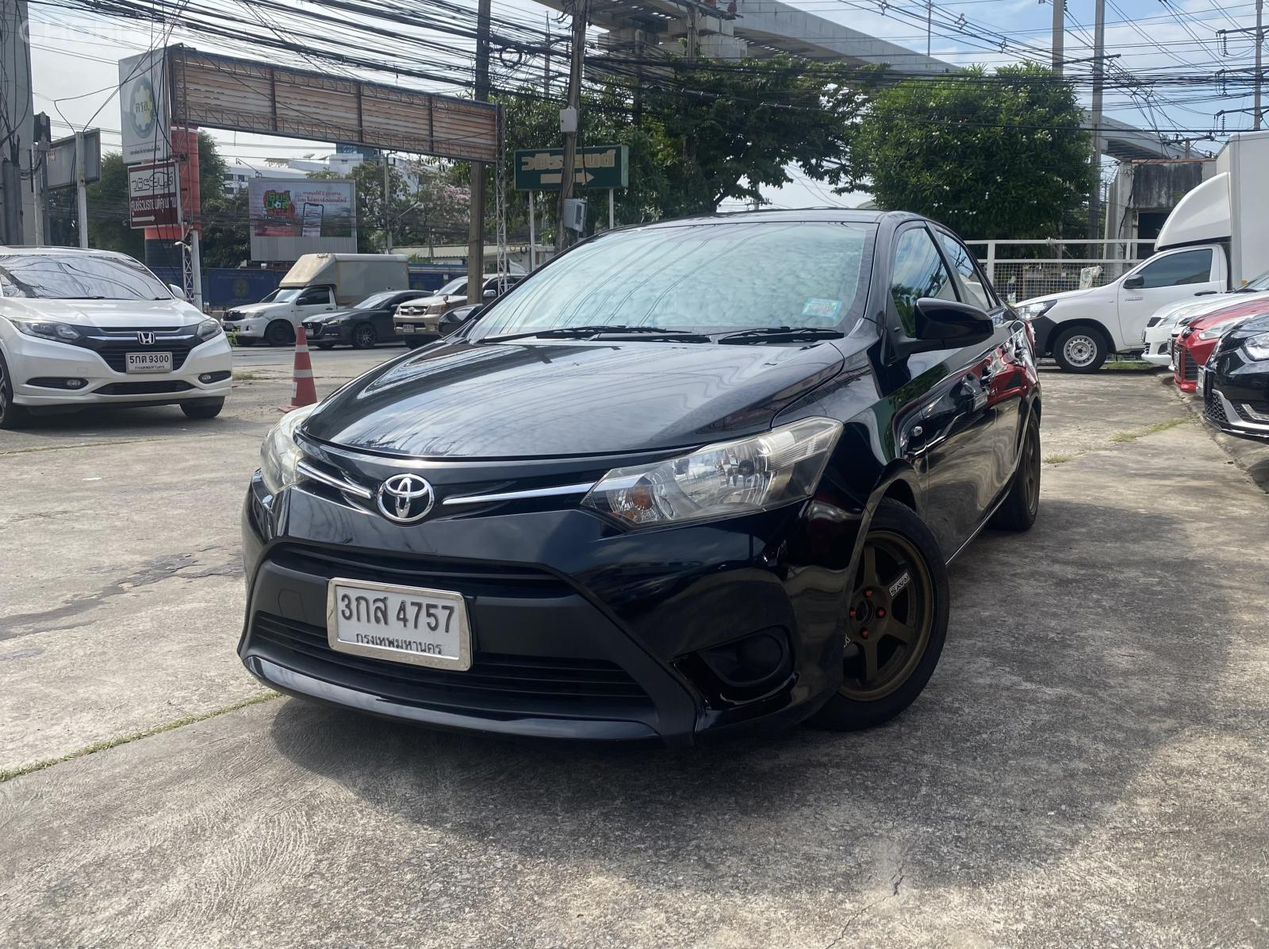license-plate: (326, 577, 477, 676), (126, 349, 175, 375)
